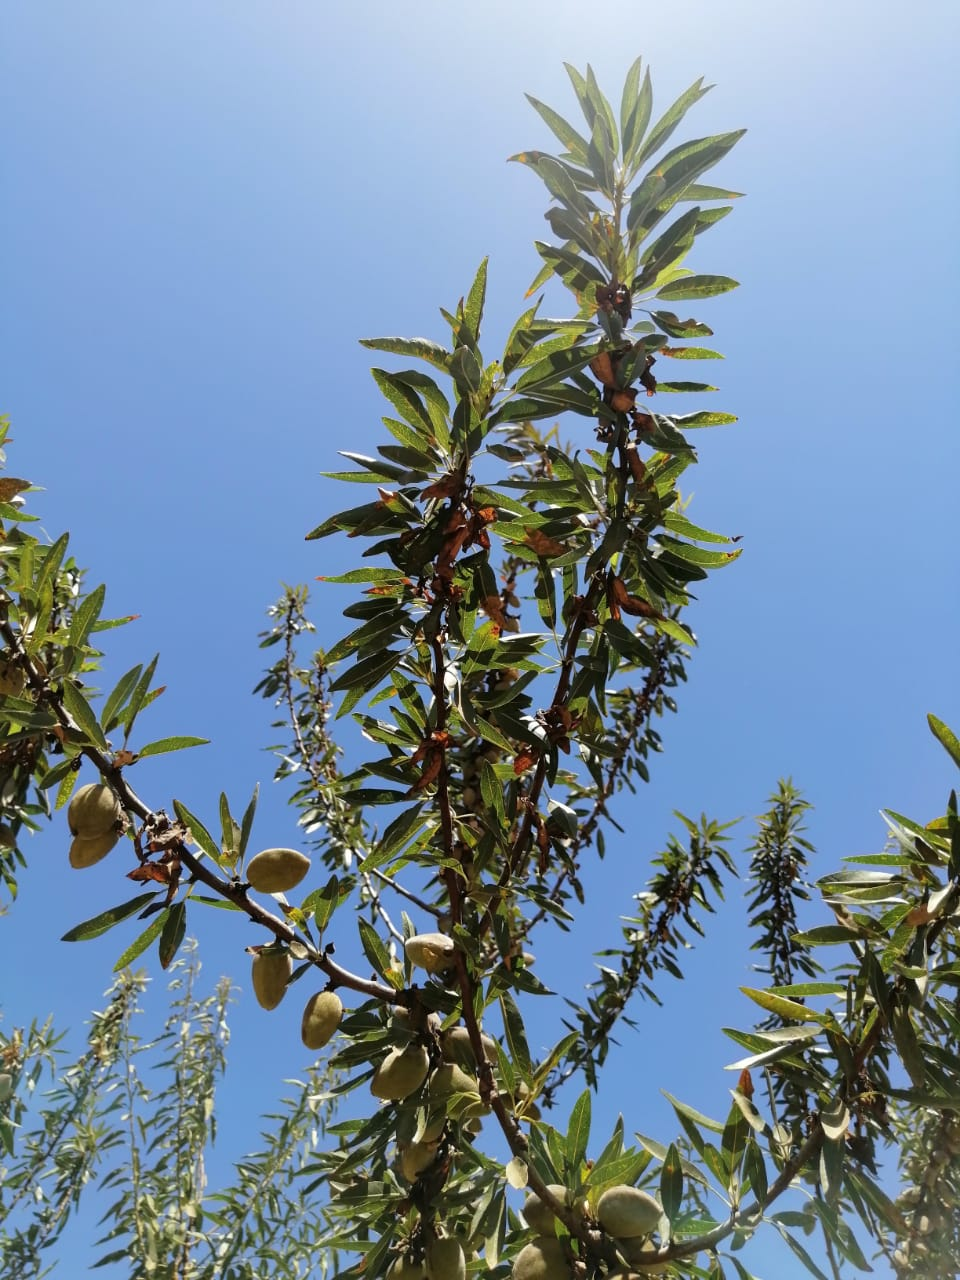scolytes: (514, 292, 671, 872), (410, 468, 519, 802), (92, 742, 195, 892)
